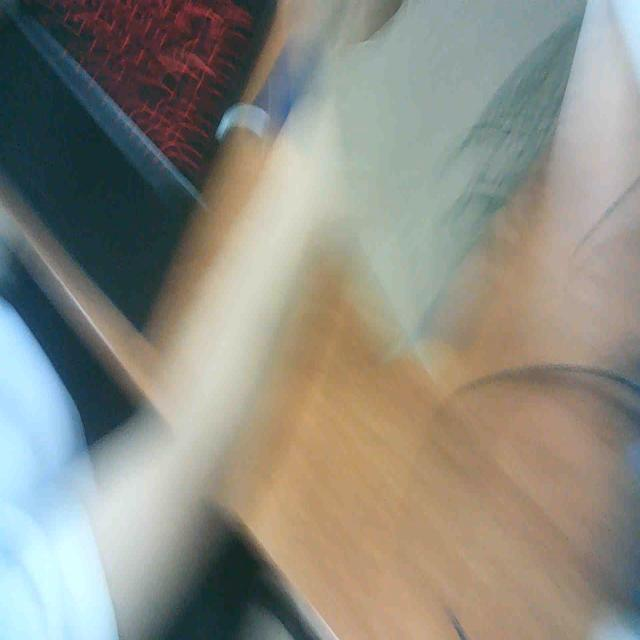bag: (296, 0, 610, 382)
